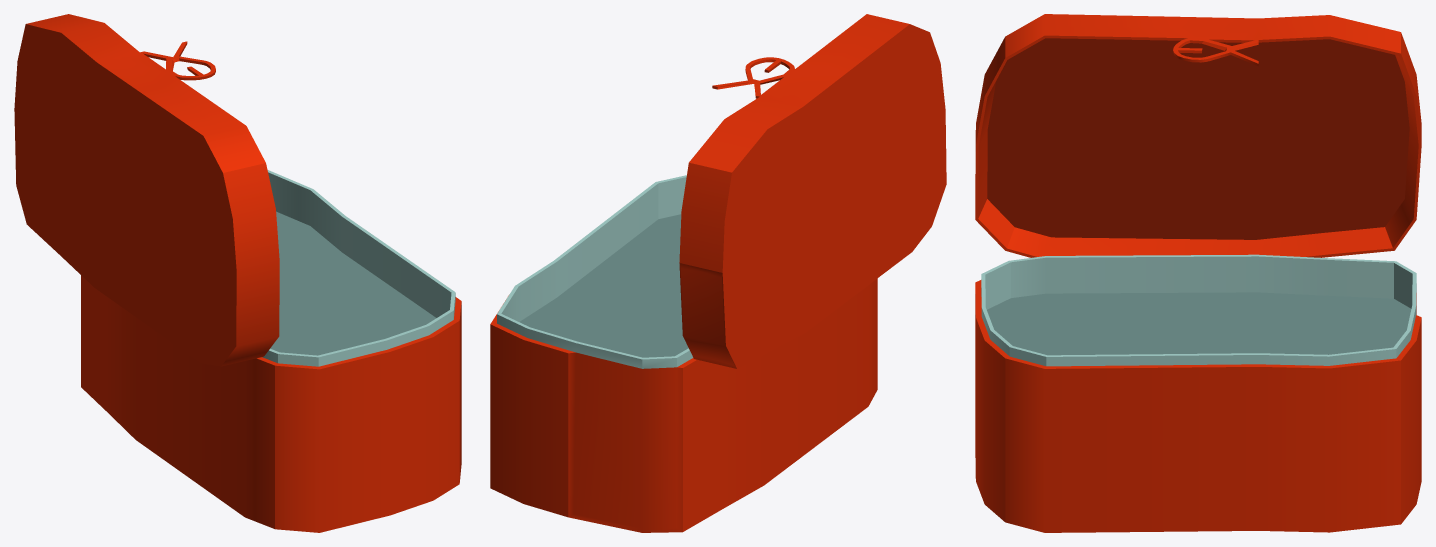
The model's file is tacklebox.fbx.
3 renders of one model, left to right at view 1: azimuth 30°, elevation 25°; view 2: azimuth 150°, elevation 25°; view 3: azimuth 270°, elevation 25°, orthographic.
Visible parts, largest first — view 1: Tacklebox_bottom, Tacklebox_lid; view 2: Tacklebox_bottom, Tacklebox_lid; view 3: Tacklebox_bottom, Tacklebox_lid.
Boxes of the visible parts, x1=… form: Tacklebox_bottom: x1=81, y1=170, x2=461, y2=532; Tacklebox_lid: x1=14, y1=14, x2=279, y2=366; Tacklebox_bottom: x1=490, y1=175, x2=877, y2=532; Tacklebox_lid: x1=679, y1=14, x2=946, y2=368; Tacklebox_bottom: x1=975, y1=254, x2=1421, y2=532; Tacklebox_lid: x1=975, y1=14, x2=1421, y2=257.
Size of the model in its own units: 6.59 by 9.46 by 9.75.
1 material, 1 textured.
